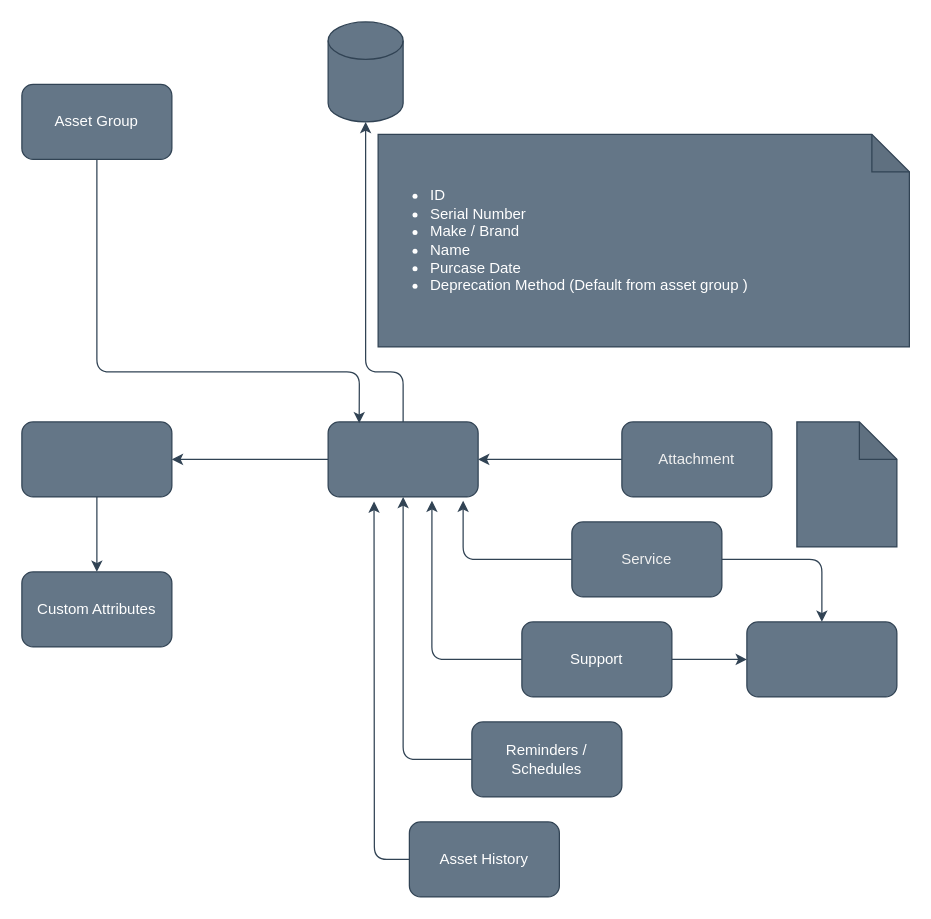
Image size: 931x919. Some labels were removed from this diagram. The shapes that lost their labels are listed below. From the top down, each one's centre as x and y in pixels, then its label:
point (96, 459): Asset Type
point (402, 459): Asset
point (846, 484): Images PDF
point (821, 659): Contact
